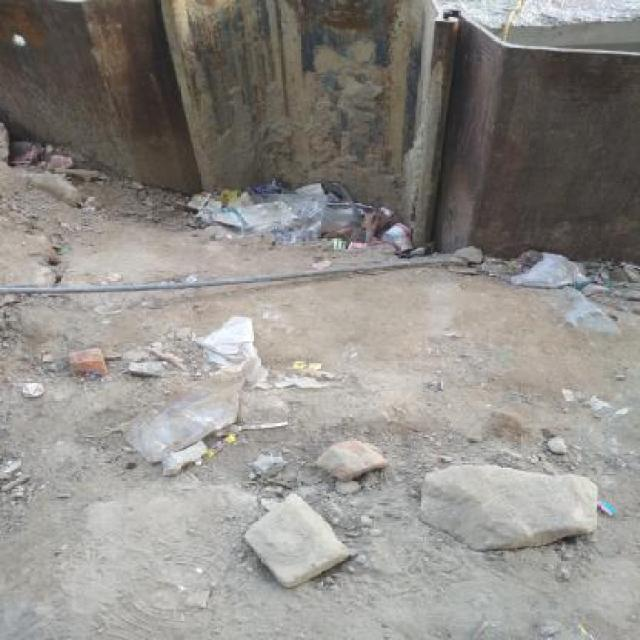garbage: (171, 174, 432, 256), (511, 253, 628, 343), (183, 312, 317, 386), (142, 271, 260, 317), (11, 369, 68, 416), (590, 486, 629, 552)
